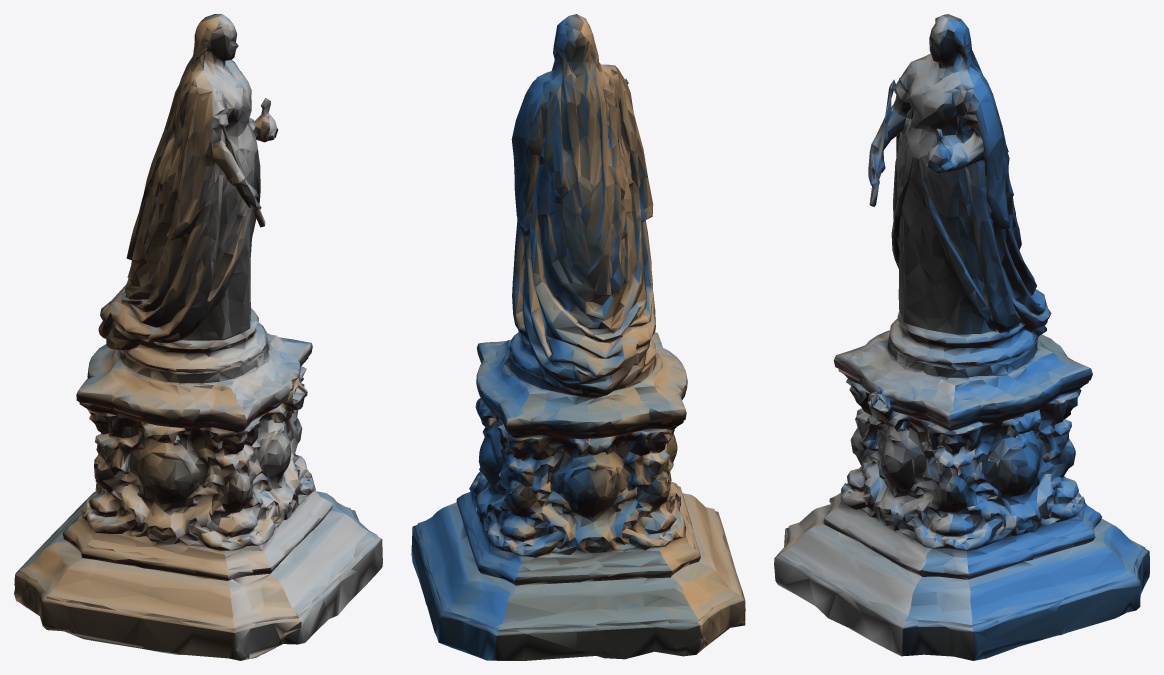
The model's file is Queen2508_Reduced.fbx.
The picture shows the model from 3 angles, left to right: view 1: azimuth 30°, elevation 25°; view 2: azimuth 150°, elevation 25°; view 3: azimuth 270°, elevation 25°; orthographic projection.
Visible parts, largest first — view 1: Queen2508; view 2: Queen2508; view 3: Queen2508.
Part boxes in pixels (x1,y1,x2,y2): Queen2508: [14, 14, 382, 660]; Queen2508: [411, 14, 745, 660]; Queen2508: [774, 14, 1149, 660].
Bounding box in the file's own units: 1049 × 1778 × 1049.
